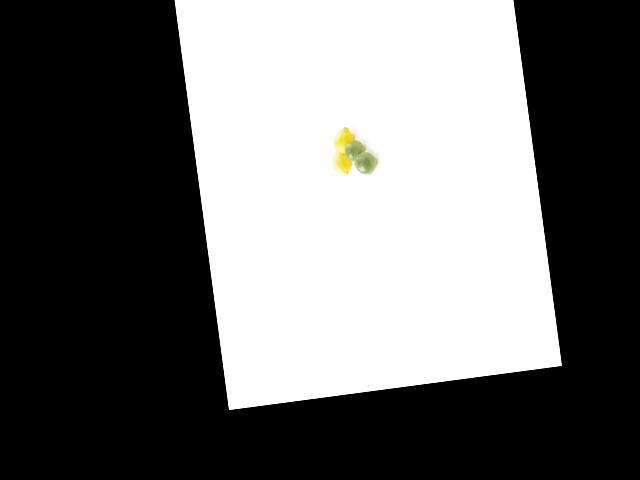lemon: (352, 150, 378, 178)
